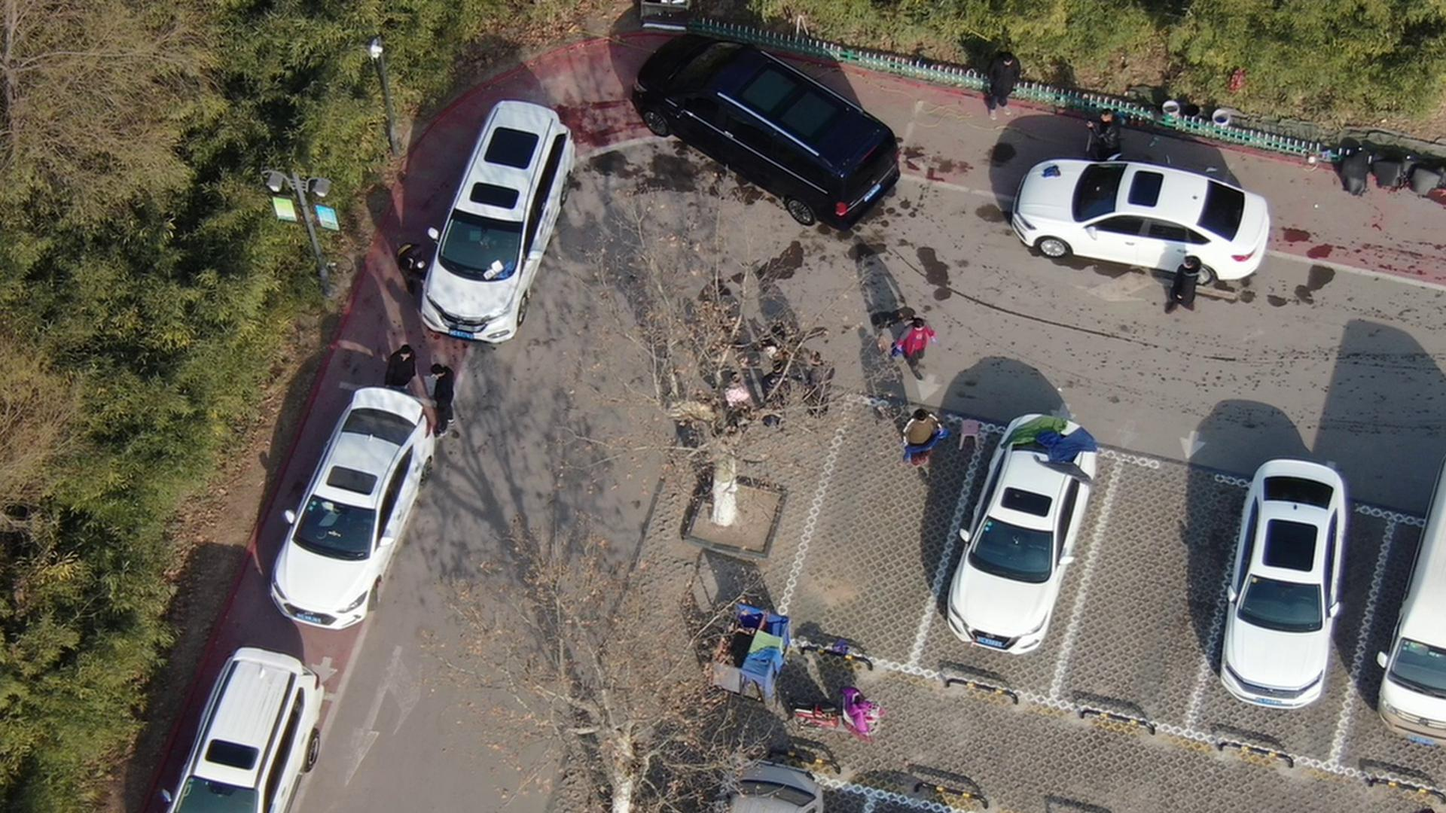human: (899, 311, 947, 385), (803, 347, 844, 431), (904, 404, 950, 474), (990, 41, 1032, 117), (1167, 250, 1210, 318), (431, 360, 463, 443), (389, 336, 426, 397), (1098, 103, 1133, 159), (766, 367, 795, 428)
